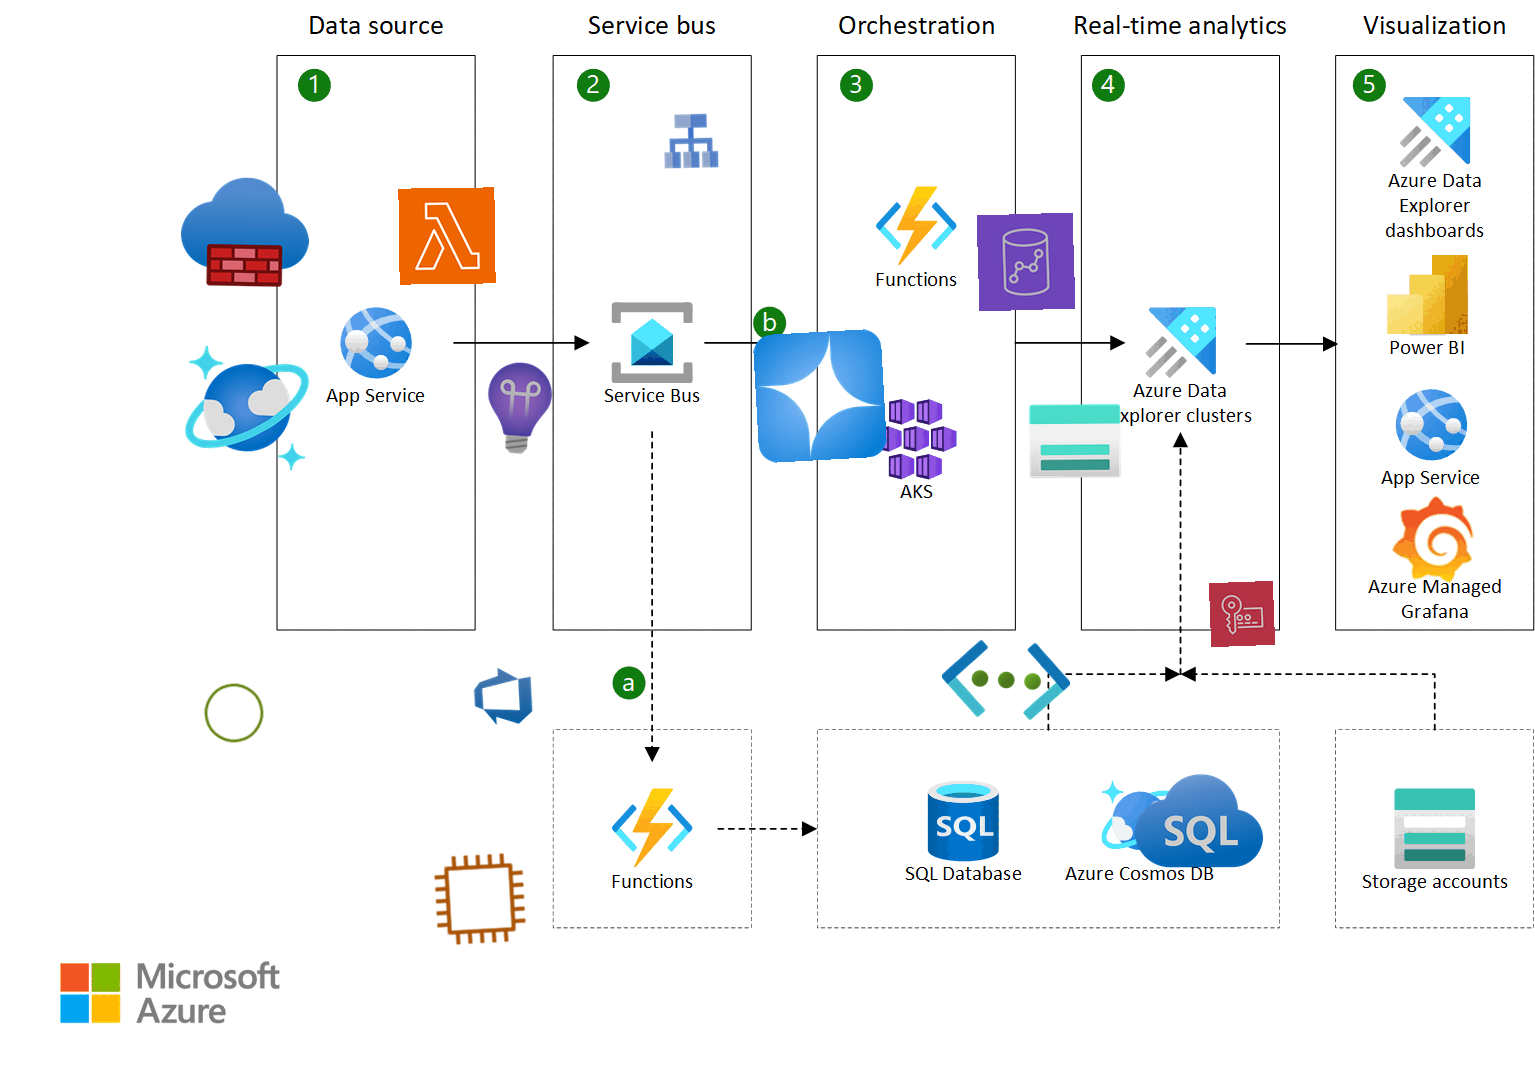aws_amazon_redshift: (976, 212, 1076, 312)
aws_ec2_instance: (429, 849, 531, 951)
aws_key_management_service: (1208, 580, 1276, 648)
aws_lambda: (398, 188, 496, 285)
aws_simple_storage_service_object: (200, 679, 268, 747)
azure_application_insights: (468, 356, 571, 459)
azure_cosmos_db: (180, 341, 314, 475)
azure_devops: (469, 662, 537, 730)
azure_firewalls: (179, 166, 311, 298)
azure_openai: (752, 328, 888, 464)
azure_sql: (1134, 758, 1264, 888)
azure_storage_accounts: (1026, 391, 1124, 490)
azure_virtual_networks: (939, 612, 1074, 748)
gcp_cloud_load_balancing: (659, 108, 724, 173)
